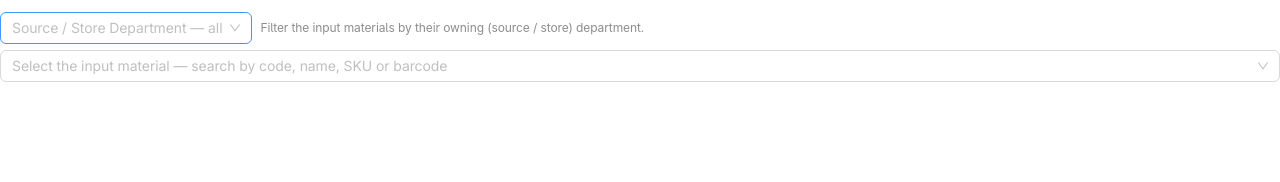
it: TASK #34C — Item Master Production Input selector › C: Source / Store Department filter queries server with departmentId and narrows options
This screenshot has width=1280, height=182.
Press the mouse on the dropdown named "Source / Store Department": (117, 28) [12, 13, 222, 43]
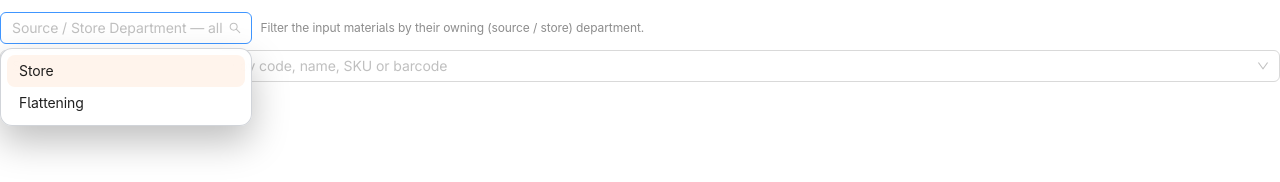
Click the text "Store": click(36, 70) [19, 62, 54, 79]
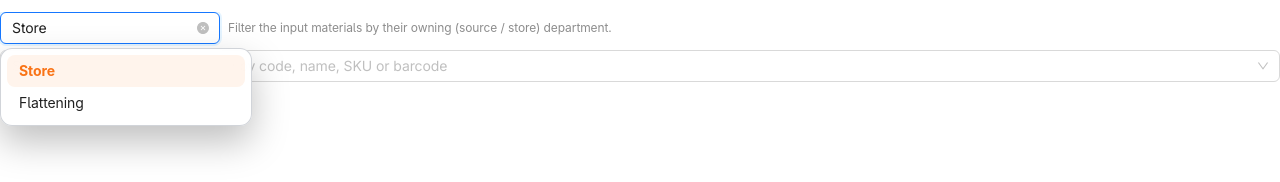
Press the mouse on the dropdown named "Input Material Select": (631, 66) [12, 51, 1250, 81]
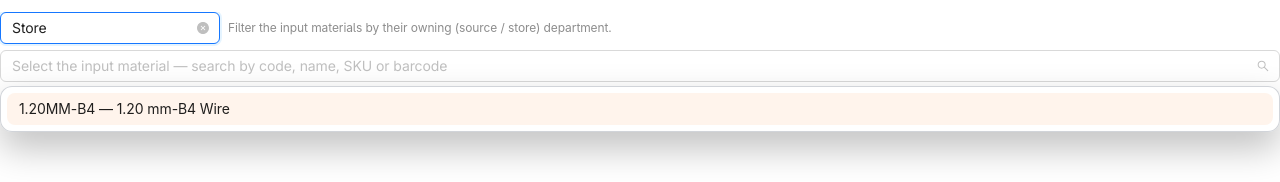
Expected: the text "1.20MM-B4 — 1.20 mm-B4 Wire" is shown, [19, 100, 230, 117]
